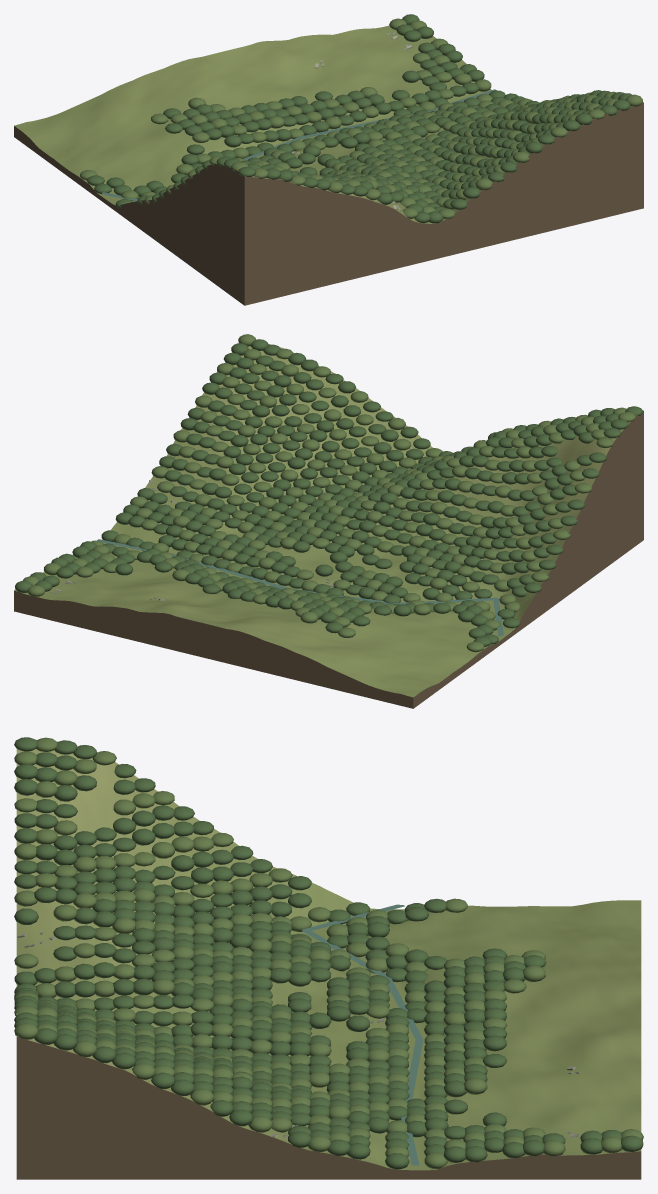
The model's file is gms-57.glb.
3 views of the same model, one above another, from view 1: azimuth 30°, elevation 25°; view 2: azimuth 150°, elevation 25°; view 3: azimuth 270°, elevation 25° (orthographic). The views are drawn at different scales.
Parts seen in each view (by area): view 1: GMS-57 - estudio del paisaje; view 2: GMS-57 - estudio del paisaje; view 3: GMS-57 - estudio del paisaje.
Boxes of the visible parts, left/top/right/bottom form: GMS-57 - estudio del paisaje: left=14, top=14, right=643, bottom=305; GMS-57 - estudio del paisaje: left=14, top=334, right=643, bottom=708; GMS-57 - estudio del paisaje: left=14, top=737, right=643, bottom=1179.
Size of the model in its own units: 12.1 by 3.83 by 12.1.
